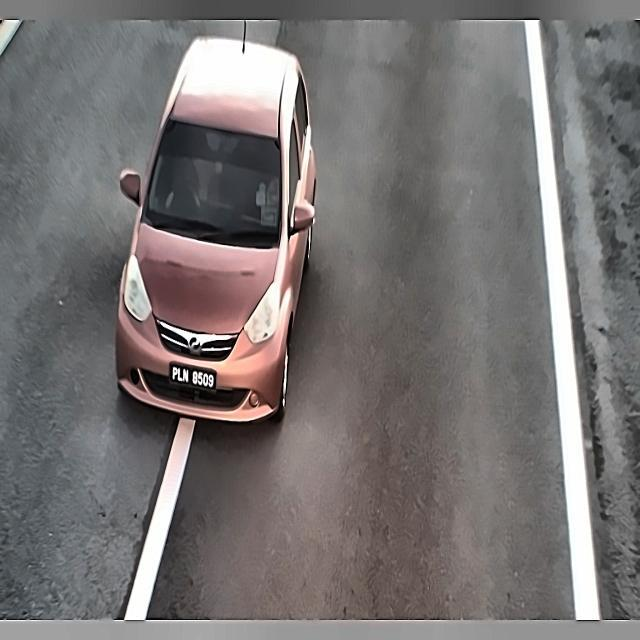car: (166, 358, 222, 392)
